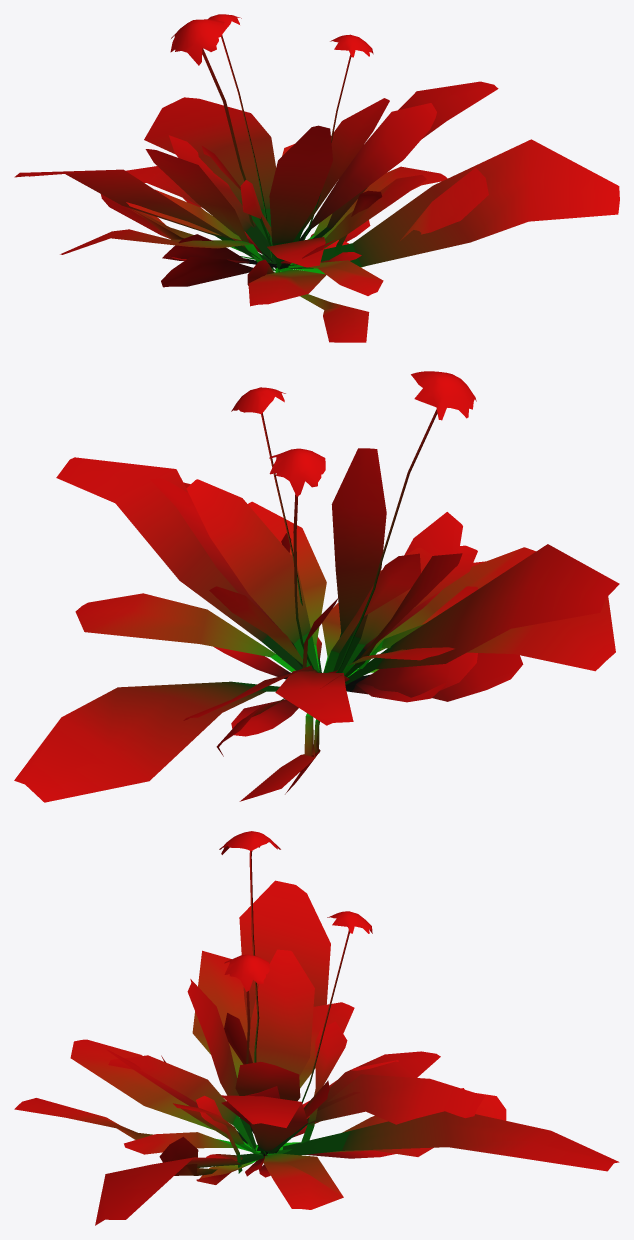
Rendered from Var1_LOD0.fbx.
3 renders of one model, top to bottom at view 1: azimuth 30°, elevation 25°; view 2: azimuth 150°, elevation 25°; view 3: azimuth 270°, elevation 25°, orthographic. The views are drawn at different scales.
Parts seen in each view (by area): view 1: _8006_Var1_LOD0; view 2: _8006_Var1_LOD0; view 3: _8006_Var1_LOD0.
Part boxes in pixels (bbox=[...]): _8006_Var1_LOD0: bbox=[14, 14, 619, 342]; _8006_Var1_LOD0: bbox=[14, 371, 619, 802]; _8006_Var1_LOD0: bbox=[14, 831, 619, 1225].
Size of the model in its own units: 45.06 by 23.32 by 45.
